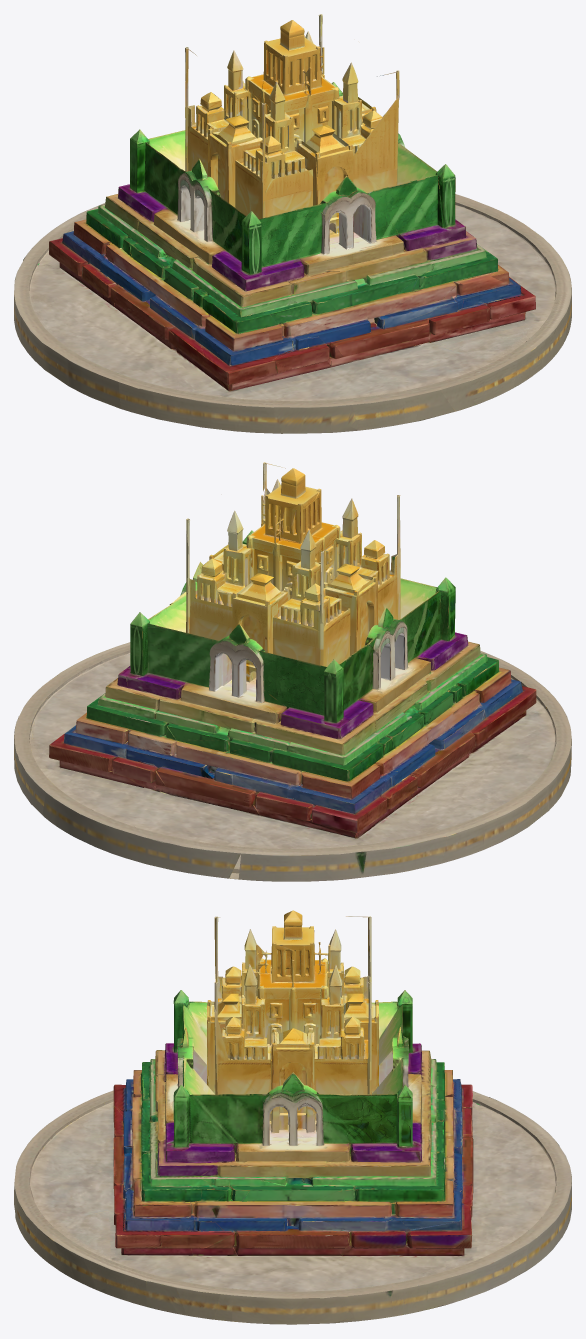
Rendered from jerusalem.glb.
3 views of the same model, one above another, from view 1: azimuth 30°, elevation 25°; view 2: azimuth 150°, elevation 25°; view 3: azimuth 270°, elevation 25° (orthographic).
Bounding box in the file's own units: 1.9 × 1.11 × 1.89.
Materials: 1 (1 with a texture image).
